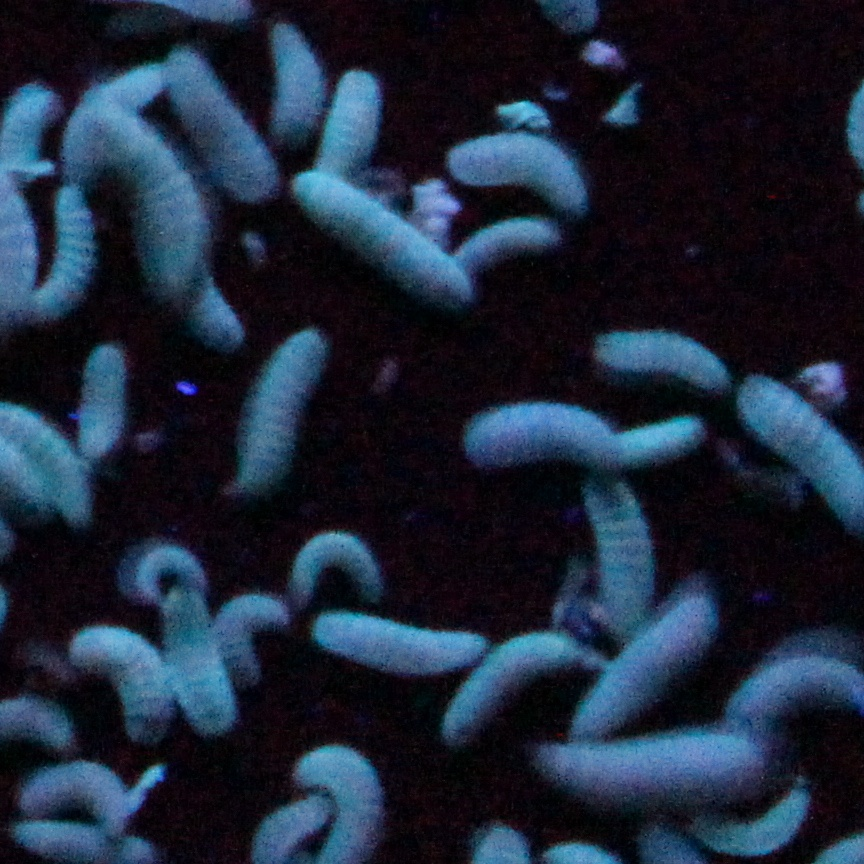larve: (304, 181, 480, 298), (109, 120, 209, 286), (448, 634, 577, 742), (599, 605, 714, 712), (238, 339, 319, 488), (536, 734, 751, 786), (65, 73, 165, 173), (463, 407, 631, 466), (187, 64, 270, 183), (75, 629, 177, 725), (458, 137, 599, 205), (602, 322, 733, 381), (592, 486, 653, 612), (326, 612, 475, 659), (326, 71, 385, 181), (270, 32, 321, 154), (704, 788, 814, 844), (38, 771, 136, 829), (299, 534, 375, 595), (224, 593, 287, 666), (187, 612, 231, 715), (85, 351, 126, 454), (11, 86, 55, 181), (470, 217, 553, 264), (51, 186, 80, 312), (629, 420, 707, 464), (202, 278, 243, 356), (143, 551, 214, 595)
